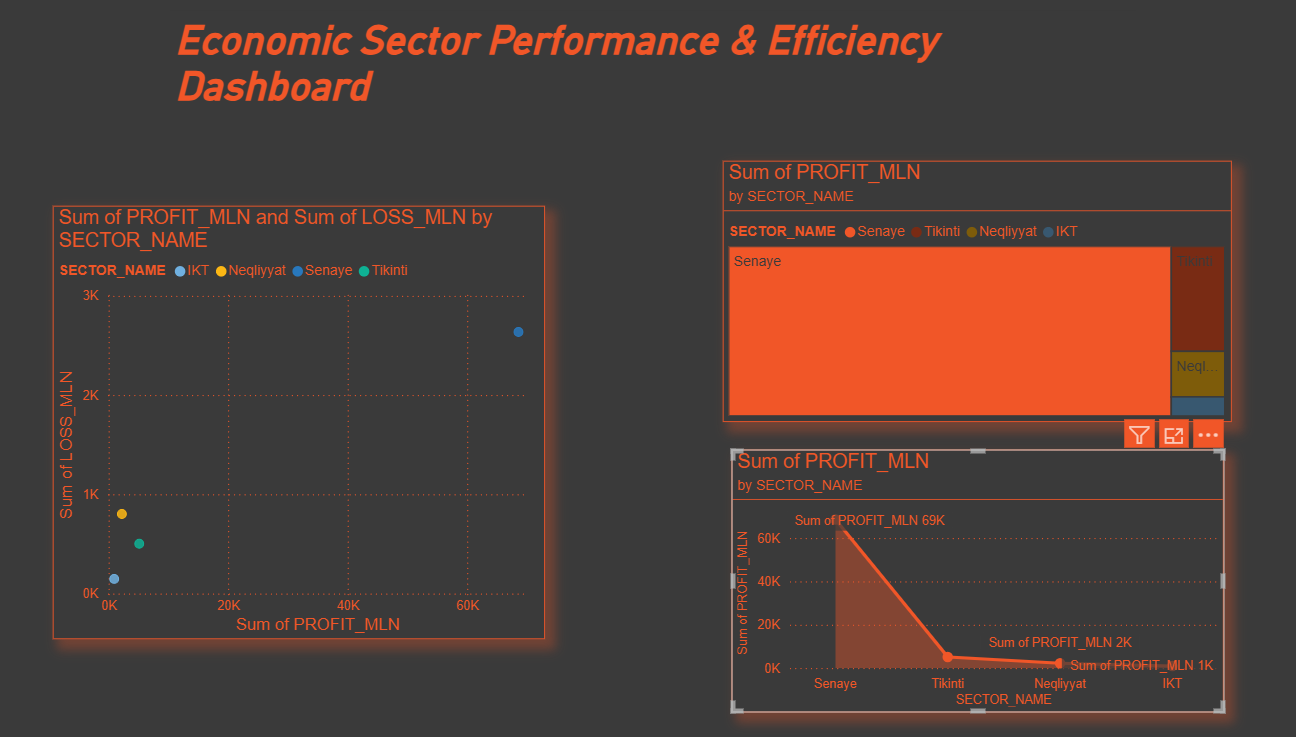

The dashboard page shown, as its layout file describes it:
{"tool":"powerbi","page":{"name":"Page 1","canvas":[1280,720],"ordinal":0},"visuals":[{"type":"treemap","fields":{"Group":["Export Worksheet.SECTOR_NAME"],"Values":["Sum(Export Worksheet.PROFIT_MLN)"]},"box":[694.1,165.5,484.5,248.8],"z":0},{"type":"scatterChart","fields":{"X":["Sum(Export Worksheet.PROFIT_MLN)"],"Y":["Sum(Export Worksheet.LOSS_MLN)"],"Series":["Export Worksheet.SECTOR_NAME"]},"box":[56,208.3,469.1,413.1],"z":1000},{"type":"lineClusteredColumnComboChart","fields":{"Category":["Export Worksheet.SECTOR_NAME"],"Y2":["Sum(Export Worksheet.PROFIT_MLN)"]},"box":[702.4,440.5,469.1,250],"z":2000},{"type":"textbox","box":[167.9,22.6,920.2,115.5],"z":3000}]}

Visuals, with their boxes in screenshot pixels (x1, y1, x2, y2), scaled from the page's 1280x720 canvas onto the 1296x737 screenshot:
treemap - Export Worksheet.SECTOR_NAME x Sum(Export Worksheet.PROFIT_MLN): rect(703, 169, 1193, 424)
scatterChart - Sum(Export Worksheet.PROFIT_MLN) x Sum(Export Worksheet.LOSS_MLN): rect(57, 213, 532, 636)
lineClusteredColumnComboChart - Export Worksheet.SECTOR_NAME x Sum(Export Worksheet.PROFIT_MLN): rect(711, 451, 1186, 707)
textbox: rect(170, 23, 1102, 141)
